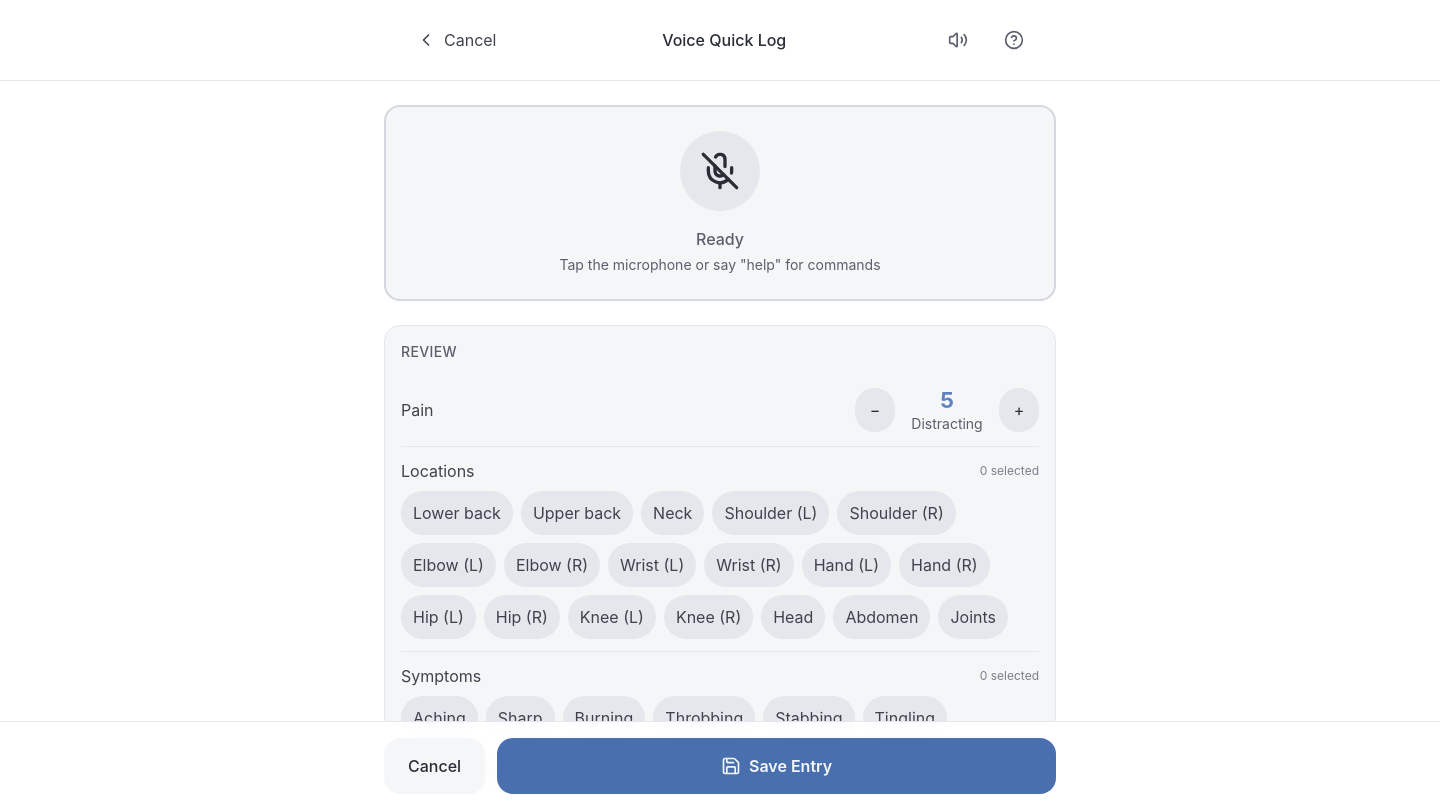
Scenario: VoiceFirstQuickLog › Help Panel › shows help panel when help button is clicked
The image size is (1440, 810).
Click the button named "Show help" at (1016, 40), box [992, 18, 1040, 62]
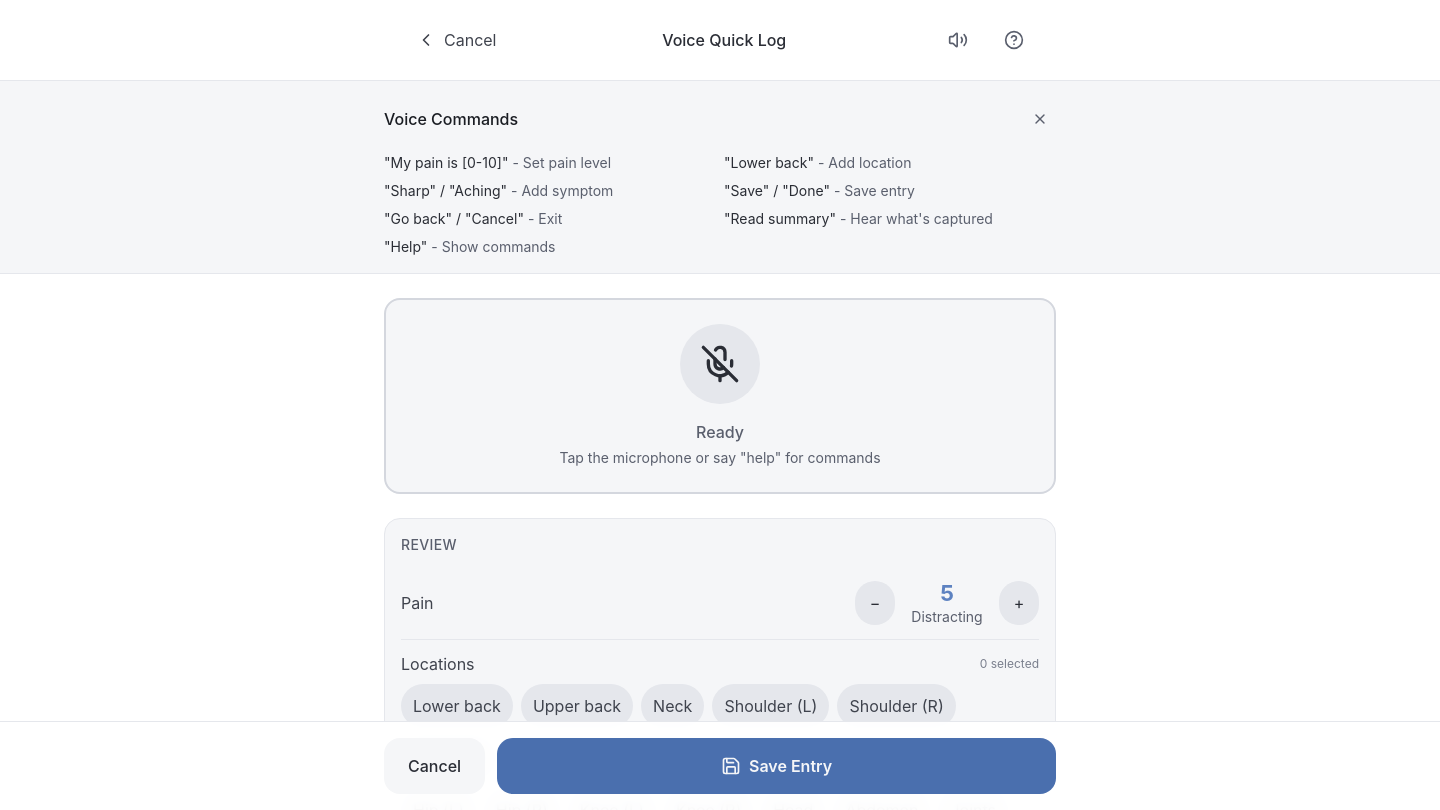
Now the heading "Voice Commands" is shown, box [384, 107, 518, 131]
Now the text "\"My pain is [0-10]\"" is shown, box [384, 154, 508, 171]
Now the text "\"Save\" / \"Done\"" is shown, box [724, 182, 830, 199]
